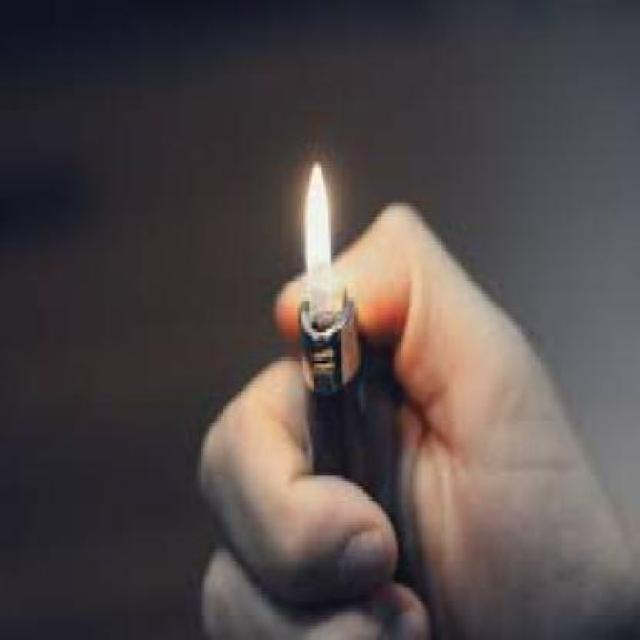Fire: (296, 159, 341, 308)
